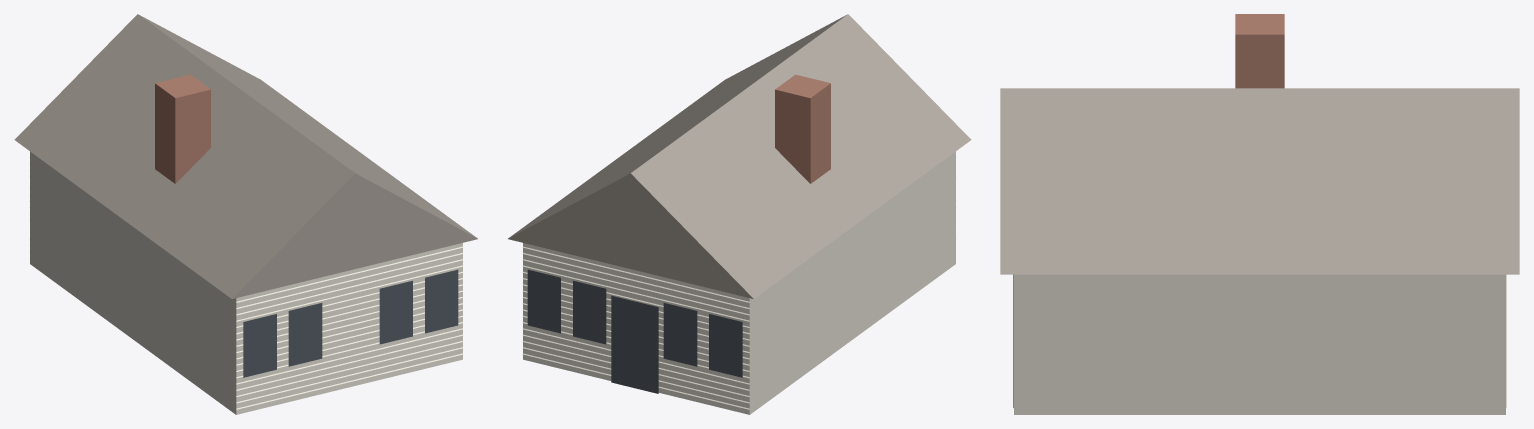
Rendered from recon_1835_north_i2_015__inferred_1835.glb.
3 views of the same model, side by side, from view 1: azimuth 30°, elevation 25°; view 2: azimuth 150°, elevation 25°; view 3: azimuth 270°, elevation 25° (orthographic). The views are drawn at different scales.
Visible parts, largest first — view 1: recon_1835_north_i2_015__inferred_1835; view 2: recon_1835_north_i2_015__inferred_1835; view 3: recon_1835_north_i2_015__inferred_1835.
Boxes of the visible parts, x1,y1,x2,y2 form: recon_1835_north_i2_015__inferred_1835: (14,14,477,414); recon_1835_north_i2_015__inferred_1835: (508,14,971,414); recon_1835_north_i2_015__inferred_1835: (1000,14,1519,414).
Bounding box in the file's own units: 6.24 × 5.83 × 9.54.
